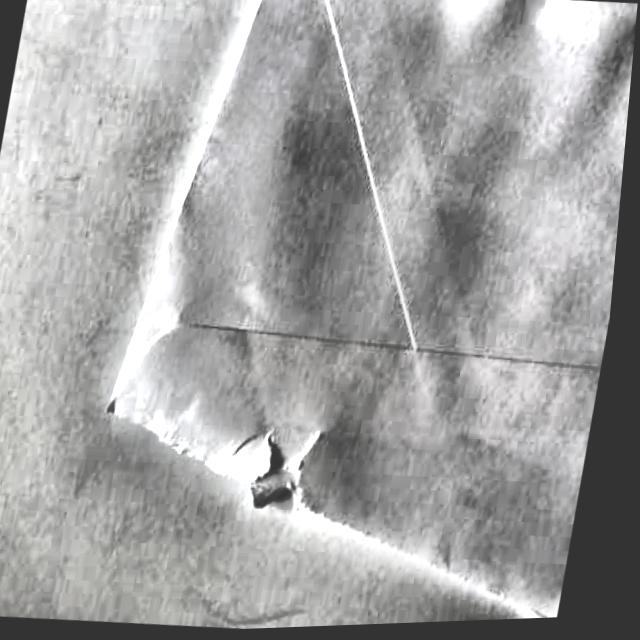Paper: (77, 0, 640, 636)
